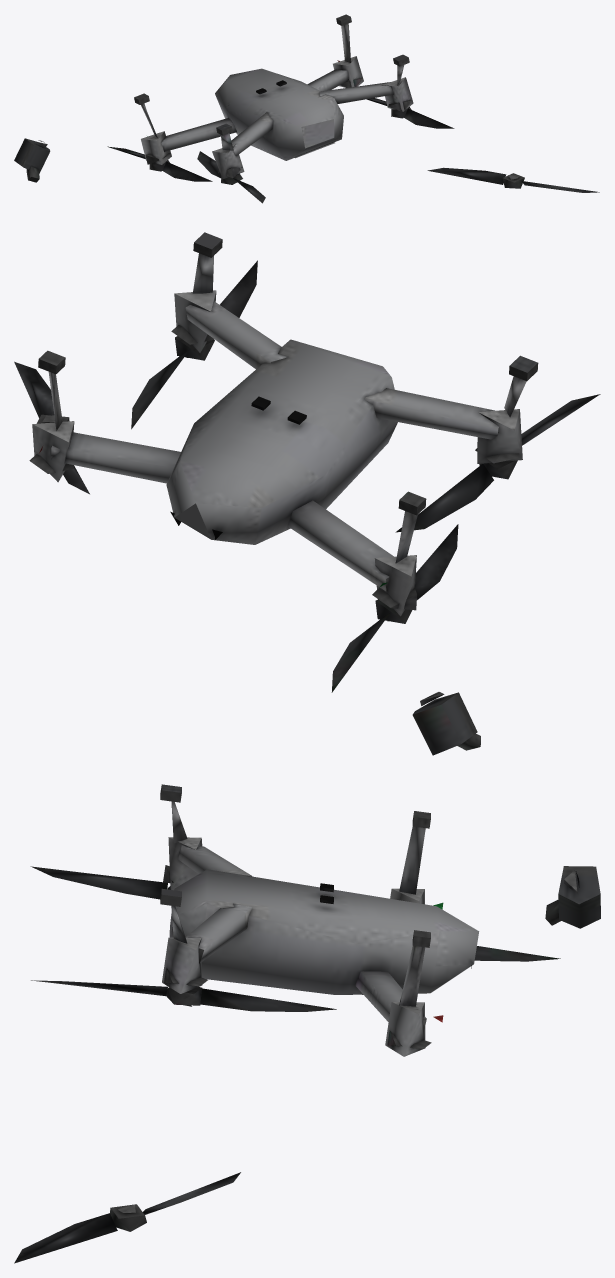
The model's file is drone_debris_lod1_web.glb.
3 views of the same model, one above another, from view 1: azimuth 30°, elevation 25°; view 2: azimuth 150°, elevation 25°; view 3: azimuth 270°, elevation 25° (orthographic). The views are drawn at different scales.
Visible parts, largest first — view 1: DroneDebris_Drone_Body, Prop_FL_Mesh, Gimbal_Mesh, Prop_FR_Mesh, Prop_RR_Mesh, Prop_RL_Mesh; view 2: DroneDebris_Drone_Body, Prop_RR_Mesh, Gimbal_Mesh, Prop_FR_Mesh, Prop_RL_Mesh, Prop_FL_Mesh; view 3: DroneDebris_Drone_Body, Prop_FL_Mesh, Prop_RL_Mesh, Gimbal_Mesh, Prop_RR_Mesh, Prop_FR_Mesh.
Part boxes in pixels (box(x1,y1,x2,y2)): DroneDebris_Drone_Body: box(134, 14, 413, 178); Prop_FL_Mesh: box(427, 167, 599, 192); Gimbal_Mesh: box(14, 138, 50, 182); Prop_FR_Mesh: box(107, 146, 212, 181); Prop_RR_Mesh: box(197, 151, 265, 203); Prop_RL_Mesh: box(367, 98, 454, 128); DroneDebris_Drone_Body: box(29, 232, 538, 616); Prop_RR_Mesh: box(395, 394, 600, 532); Gimbal_Mesh: box(412, 692, 480, 755); Prop_FR_Mesh: box(331, 524, 458, 692); Prop_RL_Mesh: box(131, 260, 257, 429); Prop_FL_Mesh: box(14, 361, 89, 494); DroneDebris_Drone_Body: box(160, 784, 479, 1056); Prop_FL_Mesh: box(14, 1172, 240, 1263); Prop_RL_Mesh: box(31, 980, 336, 1011); Gimbal_Mesh: box(545, 866, 600, 928); Prop_RR_Mesh: box(30, 866, 170, 899); Prop_FR_Mesh: box(474, 946, 560, 961).
Size of the model in its own units: 0.4926 by 0.1626 by 0.3455.
1 material, 1 textured.
